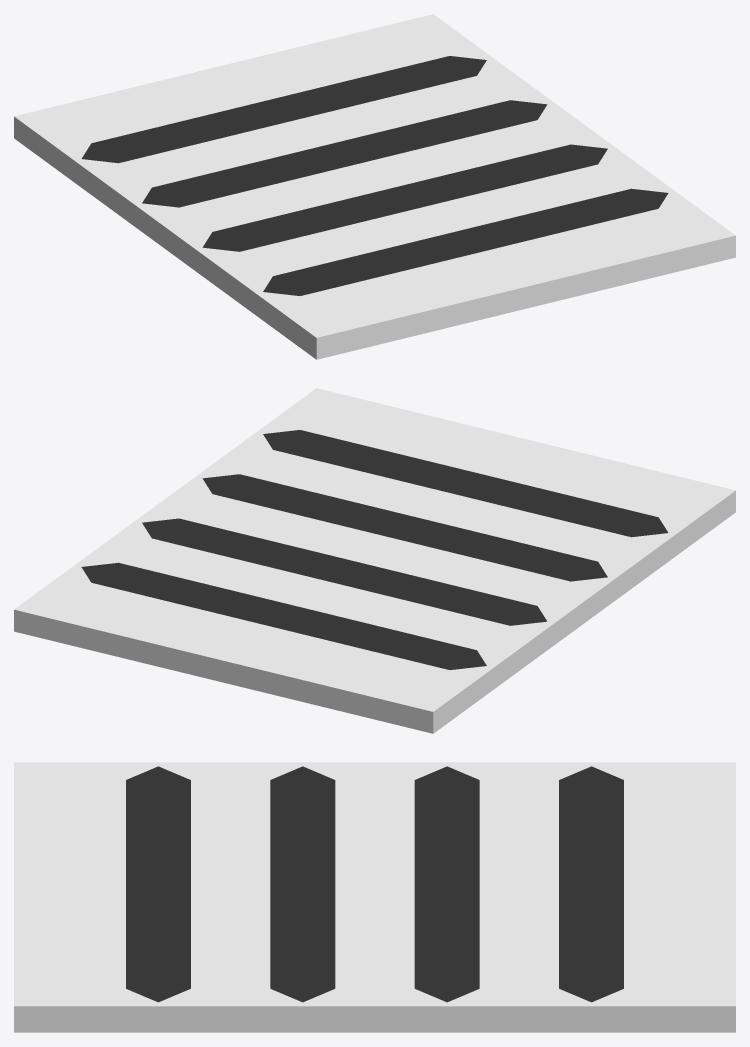
Rendered from Props_Paper_02.fbx.
3 views of the same model, one above another, from view 1: azimuth 30°, elevation 25°; view 2: azimuth 150°, elevation 25°; view 3: azimuth 270°, elevation 25° (orthographic). The views are drawn at different scales.
Visible parts, largest first — view 1: Props_Paper_02; view 2: Props_Paper_02; view 3: Props_Paper_02.
Boxes of the visible parts, x1,y1,x2,y2 form: Props_Paper_02: [14, 14, 735, 359]; Props_Paper_02: [14, 388, 735, 733]; Props_Paper_02: [14, 762, 735, 1032].
Bounding box in the file's own units: 40 × 2 × 50.
